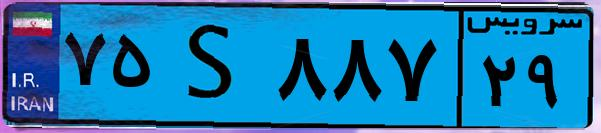2: (475, 38, 525, 113)
5: (110, 28, 158, 98)
7: (385, 28, 445, 110), (57, 26, 110, 100)
8: (270, 28, 330, 110), (330, 28, 385, 110)
9: (525, 38, 570, 115)
S: (158, 12, 270, 120)
